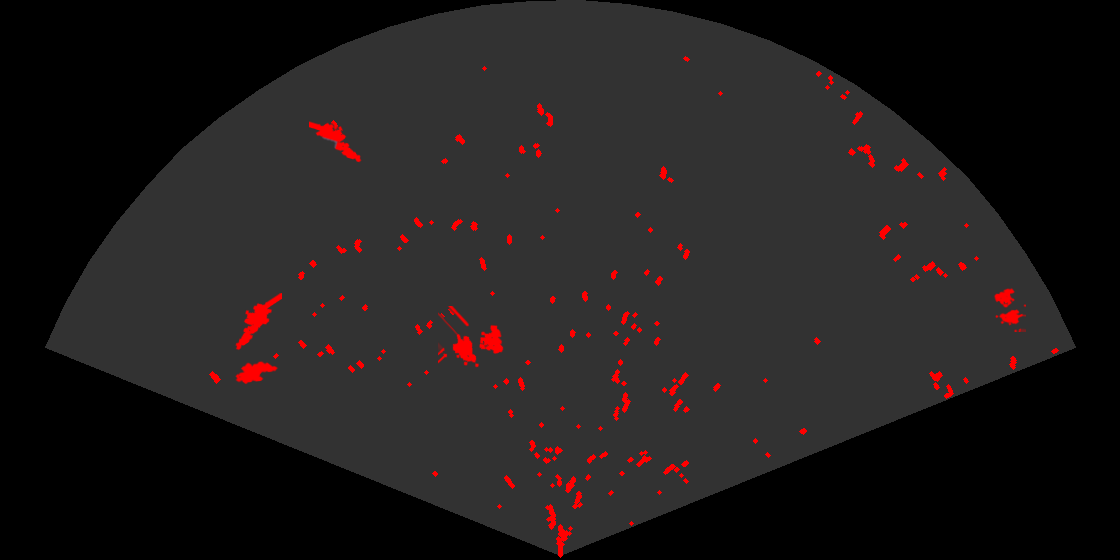AUV: (234, 359, 280, 386)
cage: (438, 306, 505, 369), (992, 286, 1026, 332)
frogman: (234, 293, 282, 352), (309, 120, 363, 164)
